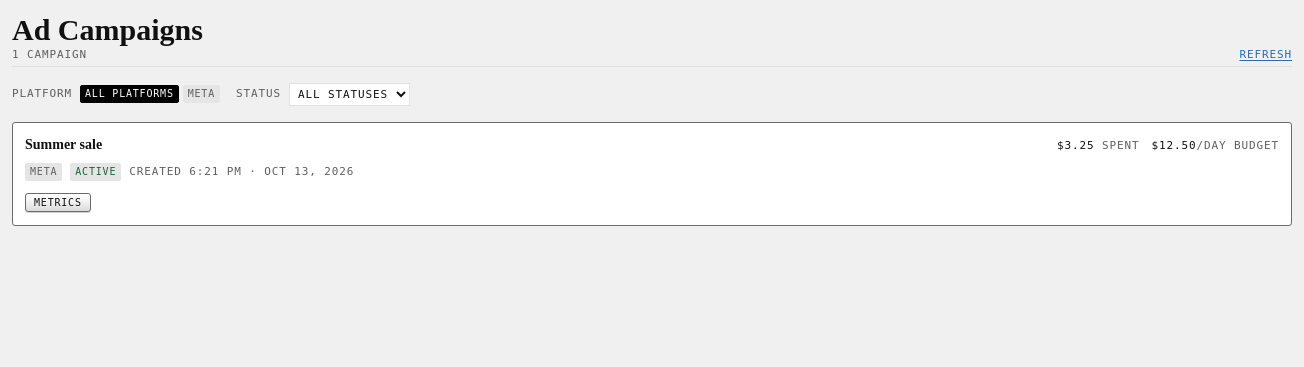
Scenario: Ads — stored campaign metrics have a real consumer › null stays the marker and a measured 0 stays a reading (null-vs-zero law)
Expected: the element with test id "campaign-row" is shown, [12,122,1292,226]
Click the button with test id "campaign-metrics-toggle-7" at (58, 203), box [25,193,91,212]
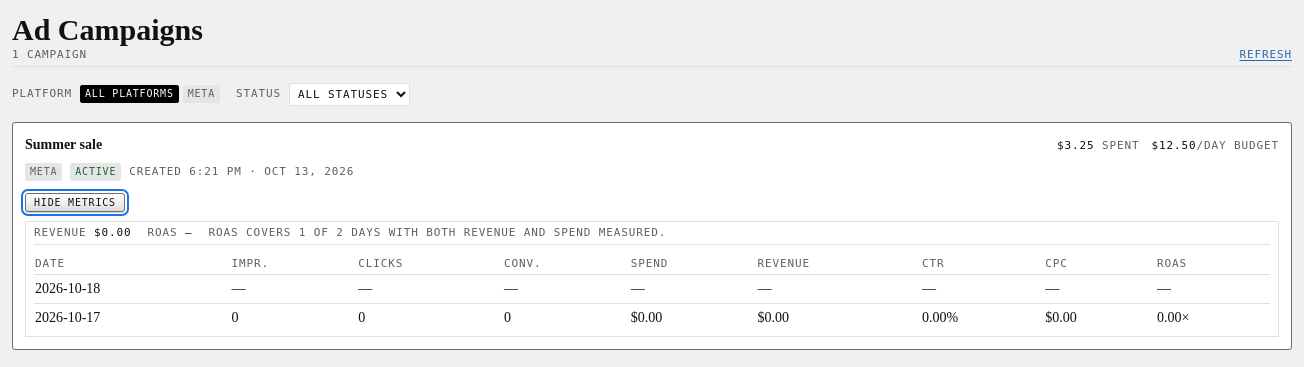
Expected: the element with test id "campaign-metrics-7" shows "—", [185,226,193,239]
Expected: the element with test id "campaign-metrics-7" shows "0.00%", [922,310,958,325]
Expected: the element with test id "campaign-metrics-7" shows "$0.00", [94,226,132,239]
